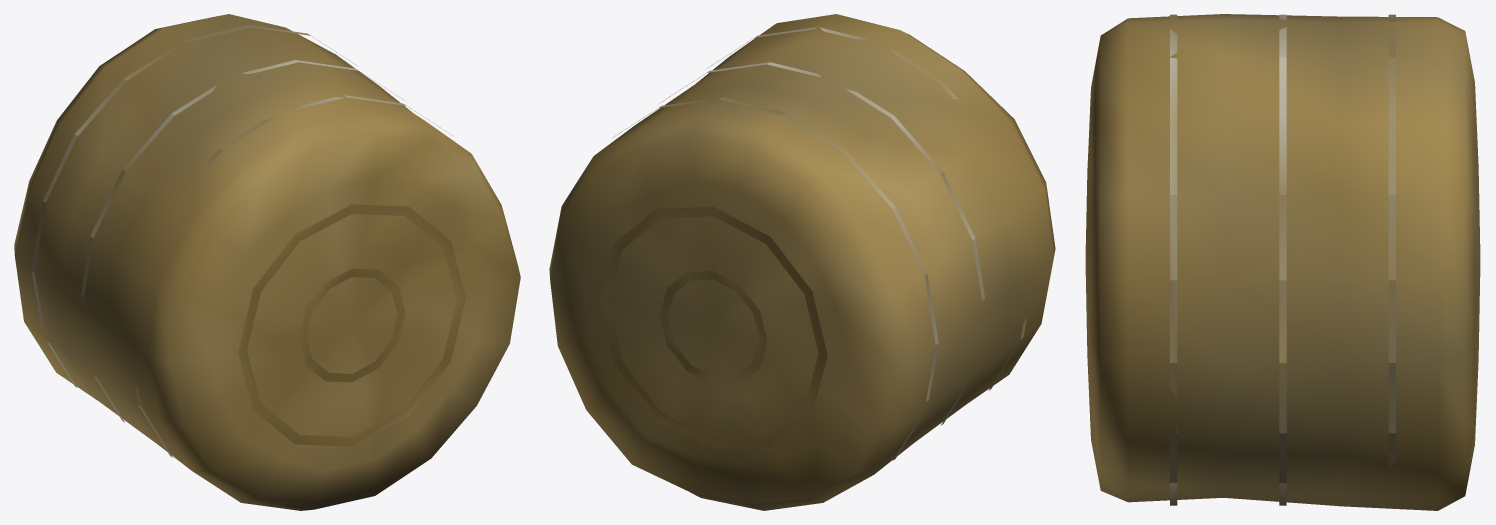
Rendered from hay_bale.glb.
The picture shows the model from 3 angles, left to right: view 1: azimuth 30°, elevation 25°; view 2: azimuth 150°, elevation 25°; view 3: azimuth 270°, elevation 25°; orthographic projection. The views are drawn at different scales.
Visible parts, largest first — view 1: HayBale; view 2: HayBale; view 3: HayBale.
Part boxes in pixels (box(x1,y1,x2,y2)): HayBale: box(14, 14, 520, 510); HayBale: box(549, 14, 1055, 510); HayBale: box(1085, 14, 1480, 510).
Bounding box in the file's own units: 1.6 × 1.6 × 1.3.
